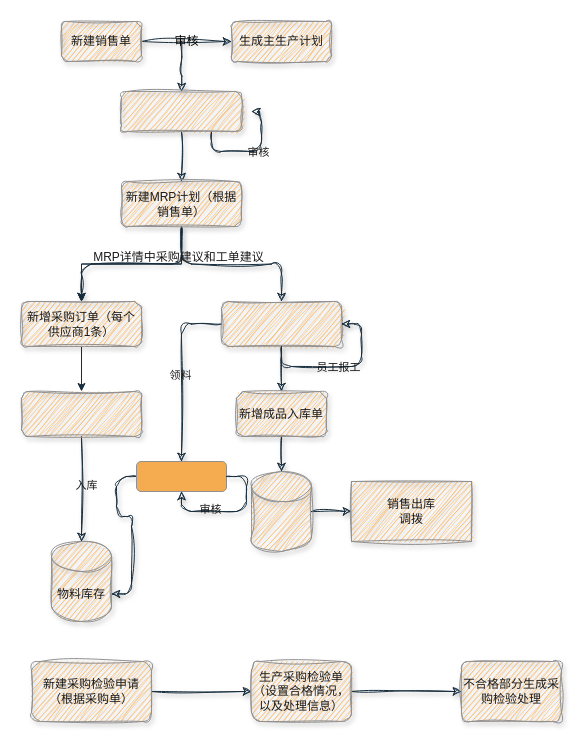
The diagram is 585 pixels wide and 746 high, and some of its shapes have lost their labels. Each missing label, with the centre of its shape:
"成品库存" belongs at point (282, 512).
"新增入库单" belongs at point (82, 415).
"新增工单" belongs at point (282, 325).
"新增领料单" belongs at point (181, 476).
"生成物料订单BOM" belongs at point (182, 112).
